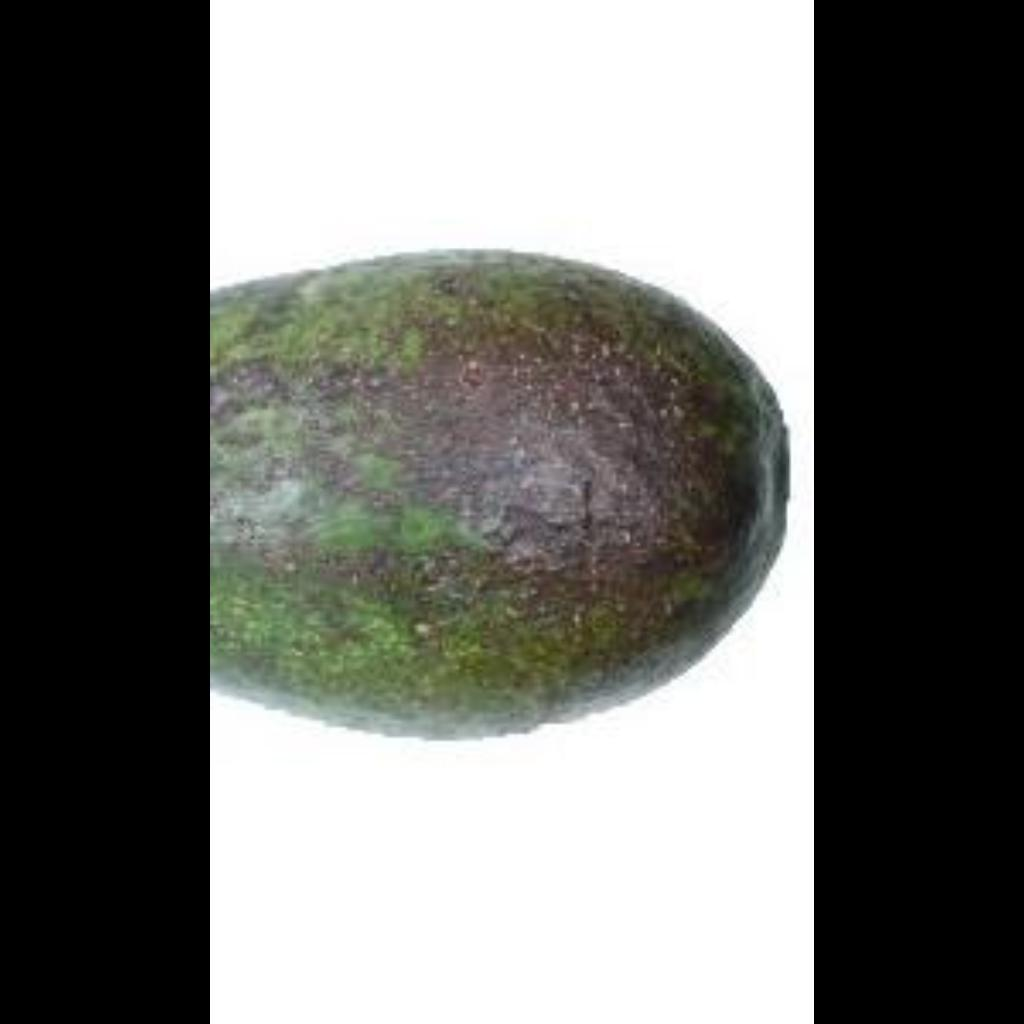Anthracnose: (258, 240, 738, 672)
